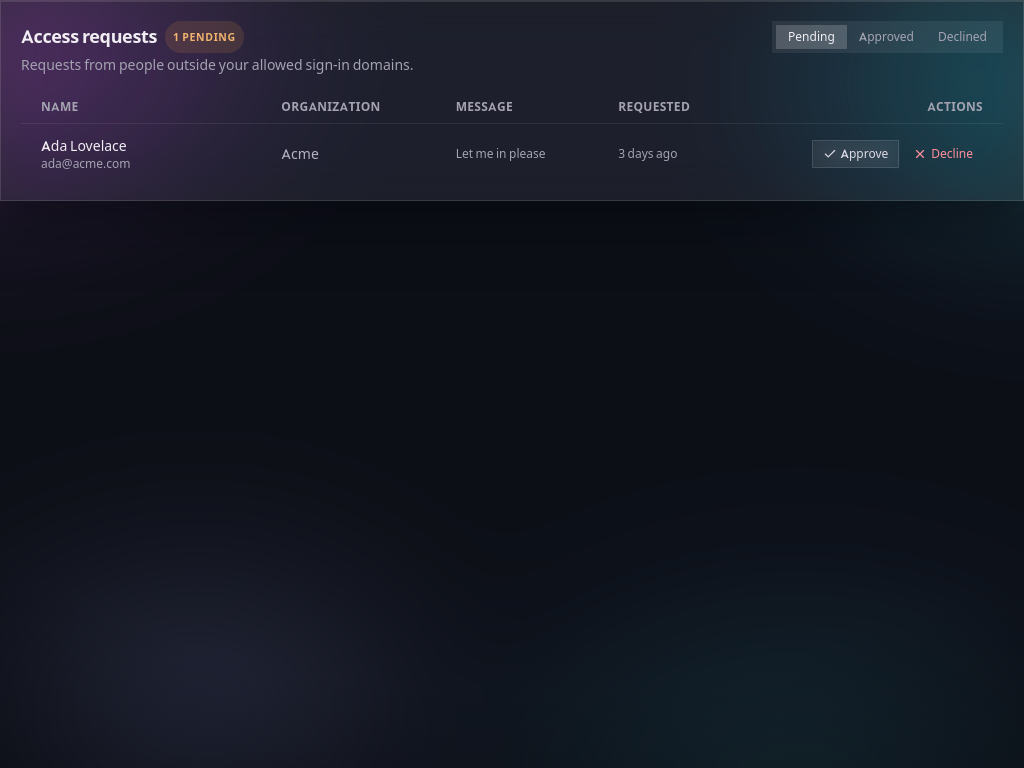
Scenario: AccessRequestsCard › declines a pending request and removes it from the list
The width and height of the screenshot is (1024, 768).
Expected: the text "Ada Lovelace" is shown, [41,137,127,155]
Step 1. Click the button "Decline" → [943, 154], box [903,140,983,168]
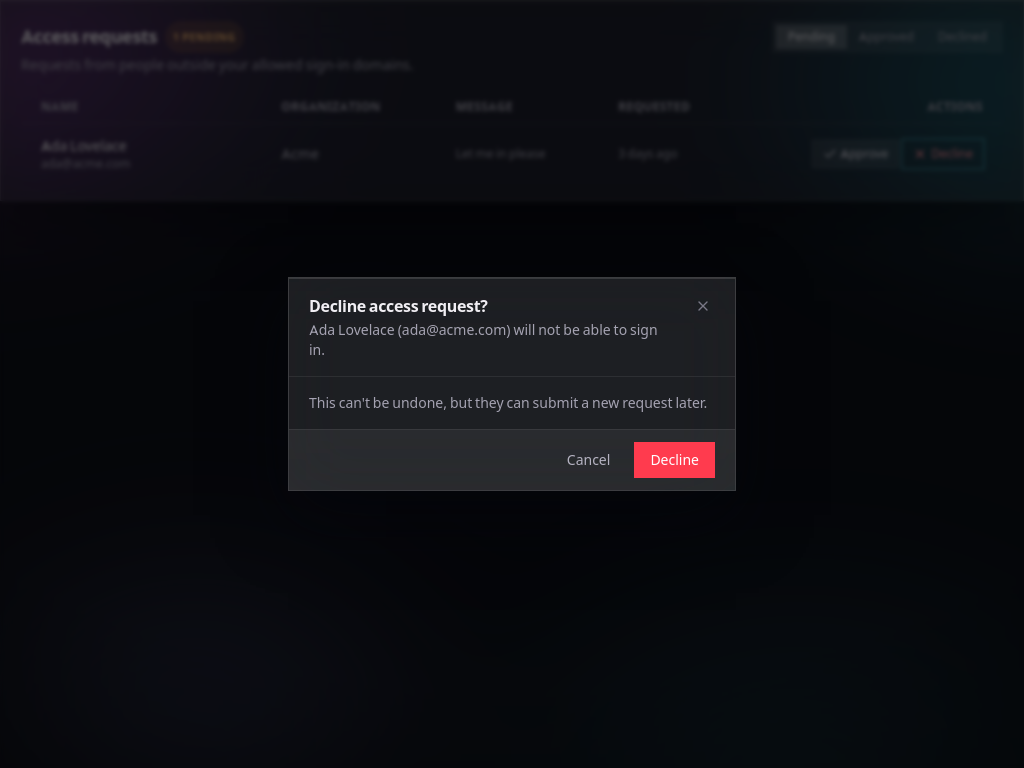
Step 2. Click the button "Decline" → [675, 460], box [634,442,715,478]
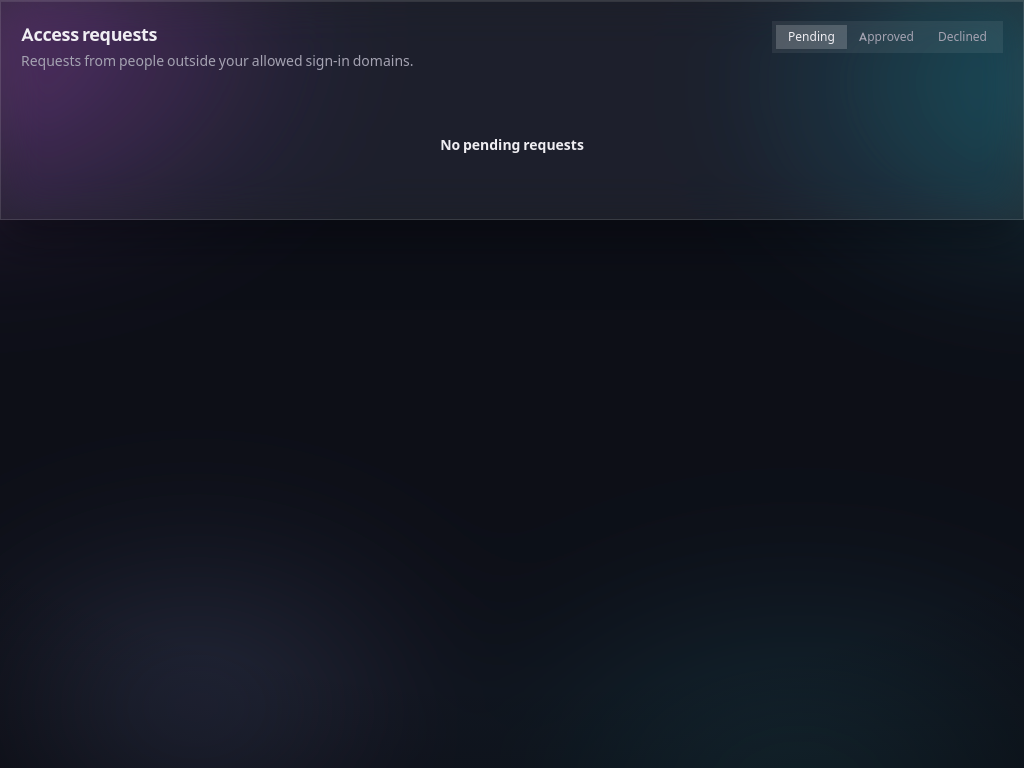
Expected: the text "Ada Lovelace" is gone
Expected: the heading "No pending requests" is shown, [440,135,584,155]
